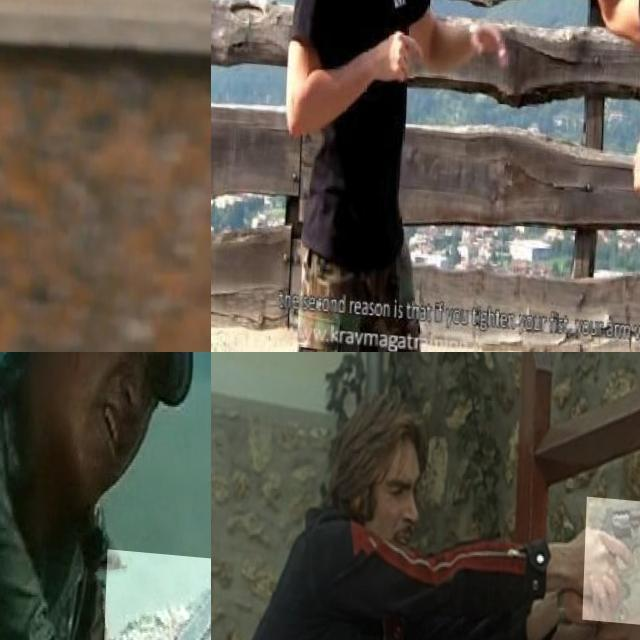-: (526, 0, 617, 45)
gun-knife-thesis - v11 Yolov5 augmented: (0, 0, 110, 342), (103, 542, 211, 640), (584, 489, 640, 617)
